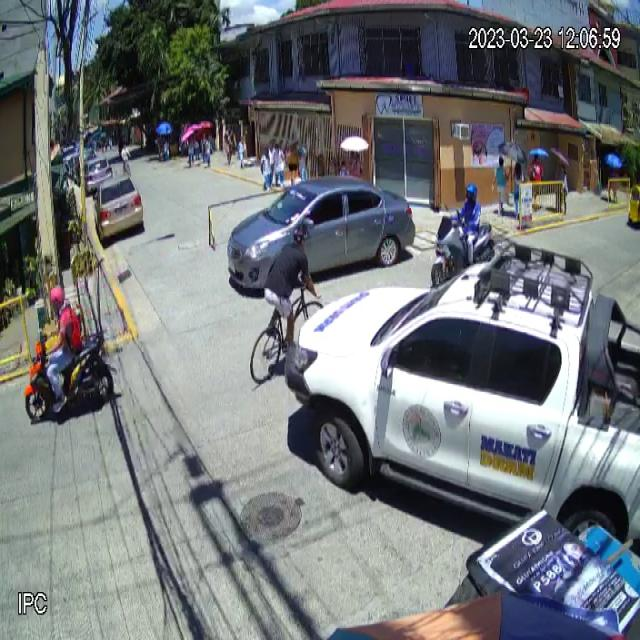Car: (224, 174, 415, 291)
